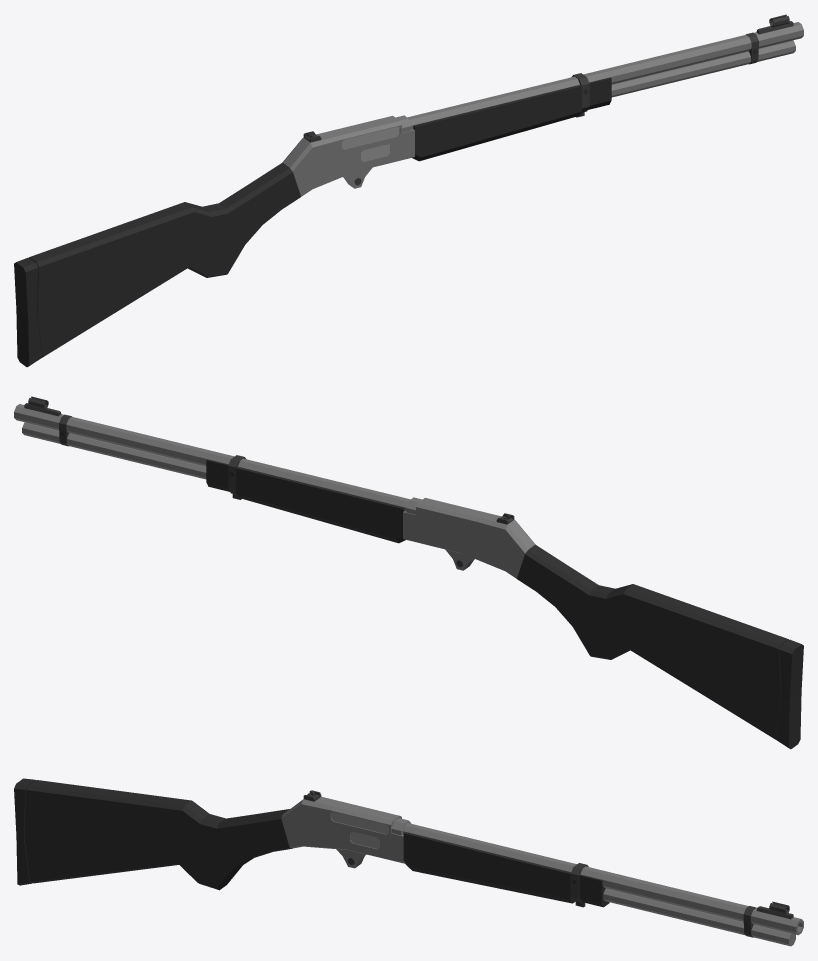
Rendered from SniperRifle5_02.fbx.
3 views of the same model, one above another, from view 1: azimuth 30°, elevation 25°; view 2: azimuth 150°, elevation 25°; view 3: azimuth 330°, elevation 25° (orthographic).
Parts seen in each view (by area): view 1: SniperRifle5_02; view 2: SniperRifle5_02; view 3: SniperRifle5_02.
Boxes of the visible parts, x1,y1,x2,y2 form: SniperRifle5_02: [14, 14, 803, 367]; SniperRifle5_02: [14, 396, 803, 749]; SniperRifle5_02: [14, 778, 803, 946].
Size of the model in its own units: 1.15 by 0.2304 by 0.03.
